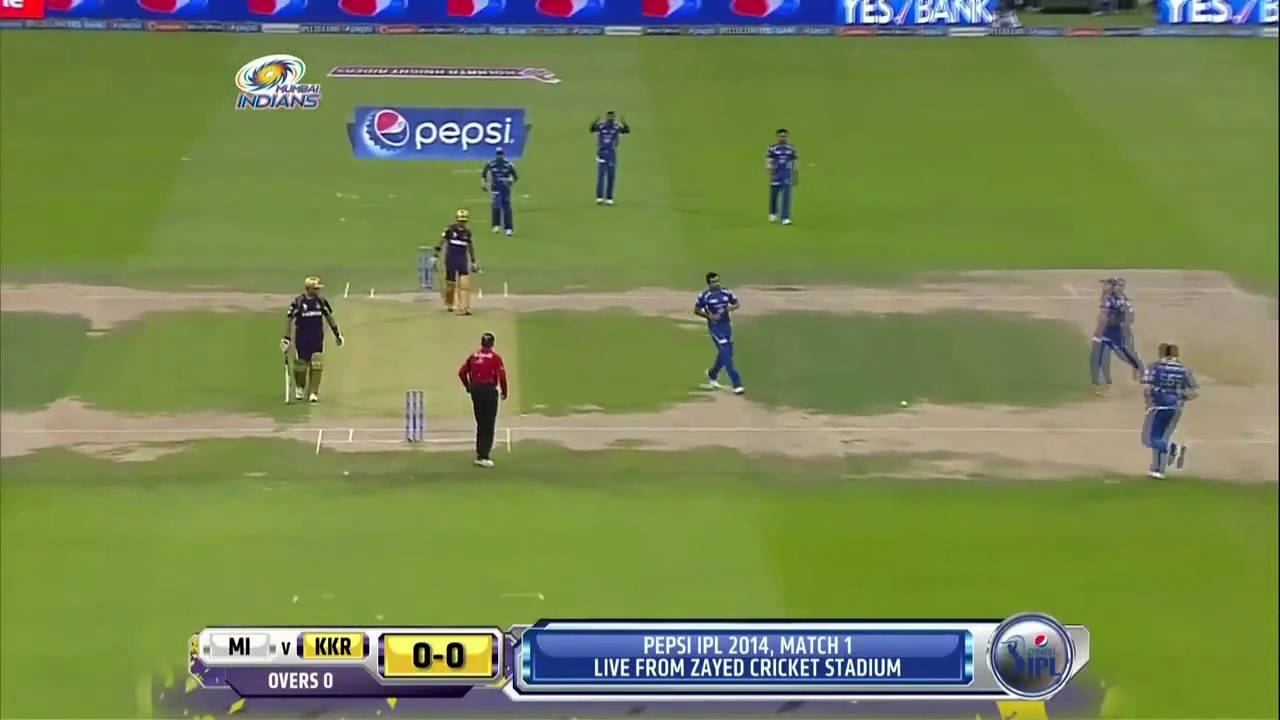bat: (282, 353, 292, 403)
stumps: (405, 390, 425, 443)
